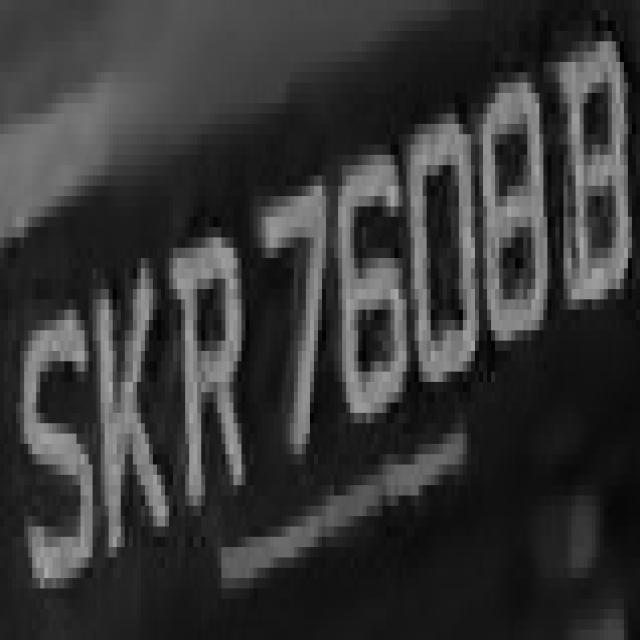0: (394, 103, 479, 392)
6: (334, 144, 415, 464)
7: (254, 144, 334, 464)
8: (479, 62, 559, 351)
B: (555, 10, 636, 341)
K: (85, 217, 173, 578)
R: (169, 196, 250, 527)
S: (16, 258, 93, 599)
